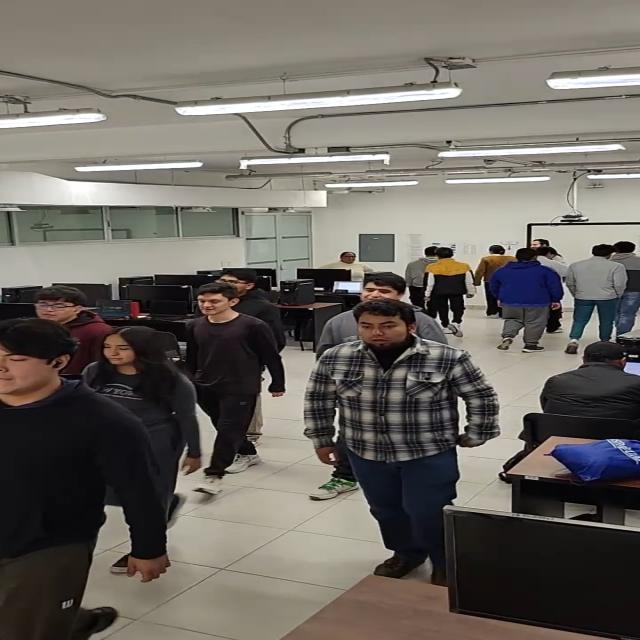Persona: (4, 320, 130, 638), (296, 314, 472, 517), (100, 322, 216, 449), (190, 288, 267, 467), (500, 248, 562, 342), (568, 245, 622, 344), (20, 284, 104, 326), (431, 249, 480, 317), (345, 278, 431, 306), (330, 251, 366, 276)
